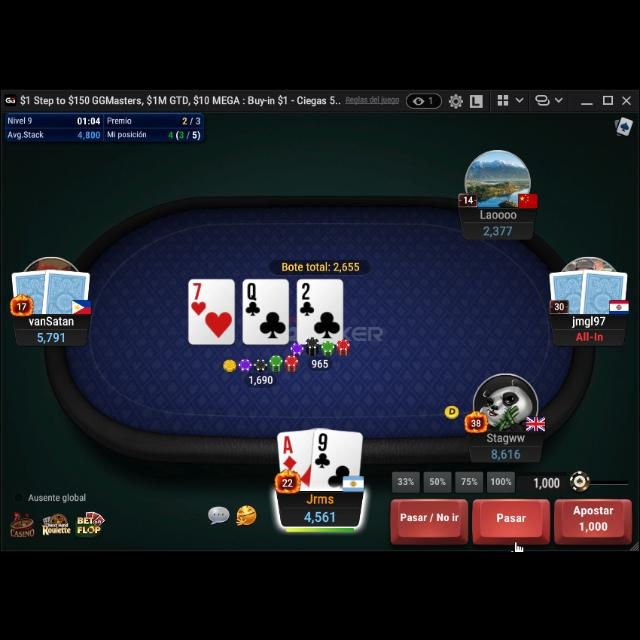2c: (299, 282, 315, 316)
7h: (189, 280, 207, 318)
9c: (314, 431, 332, 469)
Ad: (282, 434, 298, 470)
Qc: (244, 280, 262, 316)
all_in_symbol: (575, 328, 605, 342)
bet_text: (248, 372, 274, 384), (310, 356, 330, 368)
card_back: (42, 265, 92, 315), (578, 264, 628, 314), (546, 266, 590, 314), (9, 267, 53, 315)
dealer: (442, 401, 462, 419), (222, 356, 238, 372)
hero_active: (388, 498, 640, 546)
pot_text: (282, 260, 361, 272)
stack_text: (303, 506, 337, 524), (491, 444, 524, 458), (34, 329, 66, 343), (482, 222, 514, 236)
